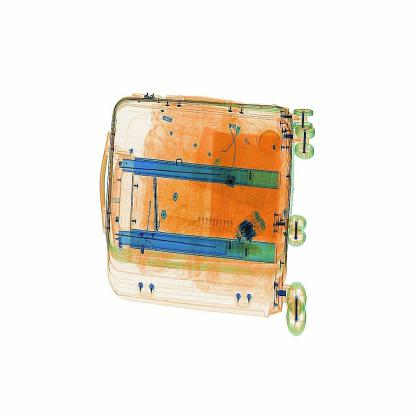knife: (152, 176, 162, 234)
